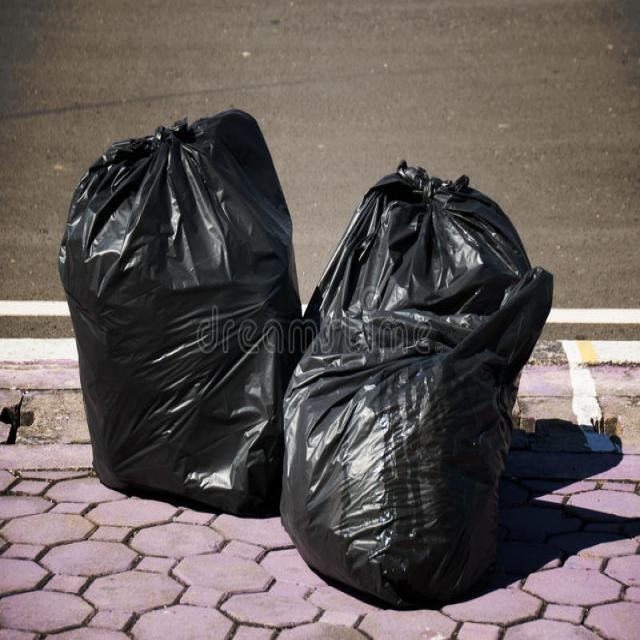Vinyl: (277, 153, 558, 618), (49, 89, 318, 507)
